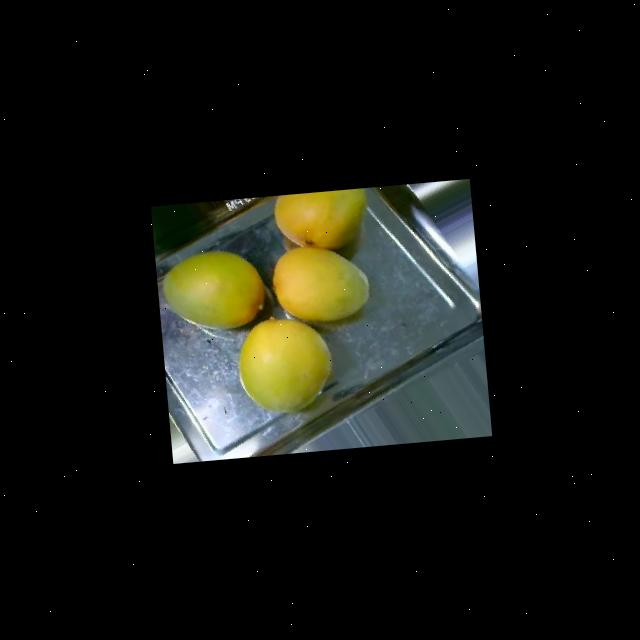Mango: (234, 312, 336, 415), (159, 245, 267, 332), (268, 239, 370, 324), (272, 186, 369, 252)
